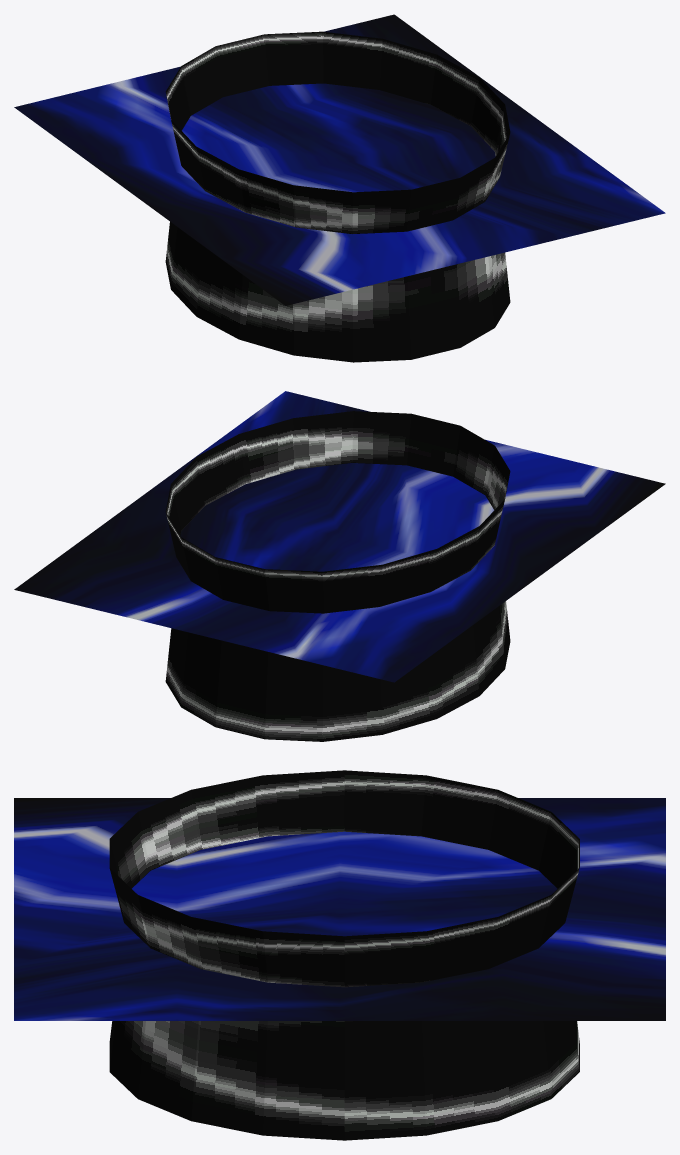
The model's file is zhanchang_fuben_272_fenyin.obj.
3 views of the same model, one above another, from view 1: azimuth 30°, elevation 25°; view 2: azimuth 150°, elevation 25°; view 3: azimuth 270°, elevation 25° (orthographic). The views are drawn at different scales.
Visible parts, largest first — view 1: Plane01#2, 123123#5, 123123#4; view 2: Plane01#2, 123123#5, 123123#4; view 3: Plane01#2, 123123#5, 123123#4.
Boxes of the visible parts, x1,y1,x2,y2 form: Plane01#2: [14, 14, 665, 305]; 123123#5: [165, 31, 510, 233]; 123123#4: [165, 222, 510, 362]; Plane01#2: [14, 391, 665, 682]; 123123#5: [165, 411, 510, 613]; 123123#4: [165, 601, 510, 741]; Plane01#2: [14, 798, 665, 1020]; 123123#5: [109, 770, 579, 987]; 123123#4: [109, 1021, 579, 1140].
Size of the model in its own units: 124 by 52.99 by 153.
2 materials, 2 textured.
